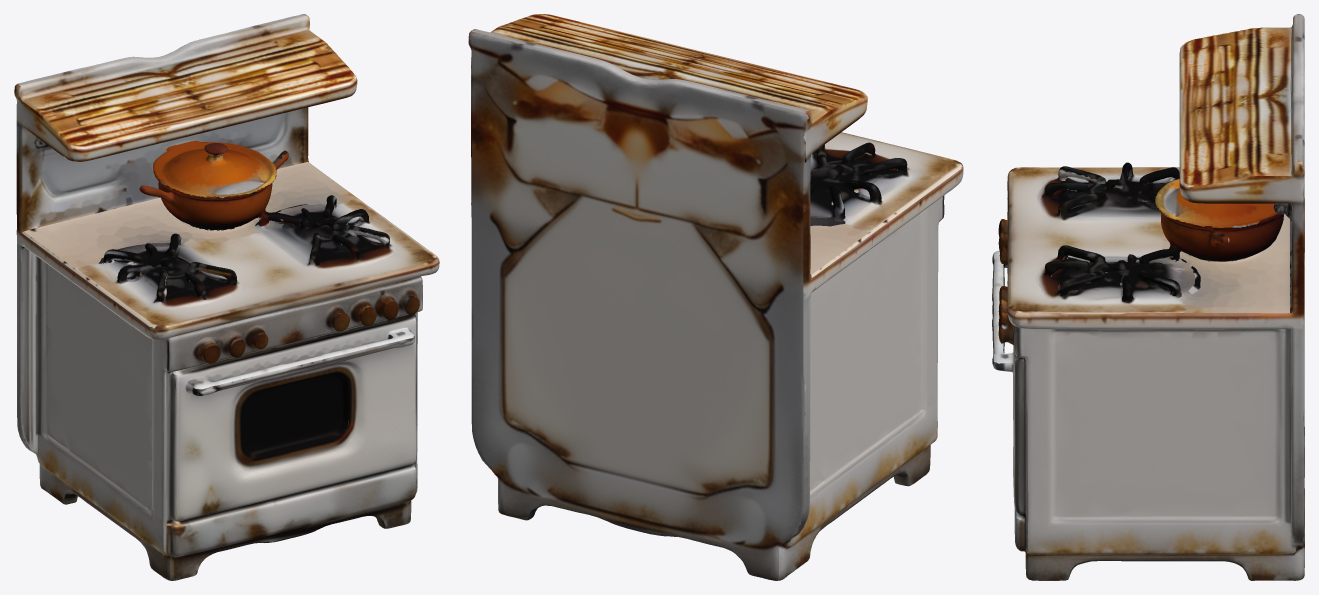
File: cocina_vieja.glb
The picture shows the model from 3 angles, left to right: view 1: azimuth 30°, elevation 25°; view 2: azimuth 150°, elevation 25°; view 3: azimuth 270°, elevation 25°; orthographic projection. The views are drawn at different scales.
Parts seen in each view (by area): view 1: tmpwgq0jcq9.ply; view 2: tmpwgq0jcq9.ply; view 3: tmpwgq0jcq9.ply.
Part boxes in pixels (left/top/right/bottom): tmpwgq0jcq9.ply: left=14, top=14, right=439, bottom=580; tmpwgq0jcq9.ply: left=468, top=14, right=963, bottom=580; tmpwgq0jcq9.ply: left=992, top=14, right=1304, bottom=580.
Size of the model in its own units: 0.7421 by 0.993 by 0.6527.
1 material, 1 textured.
